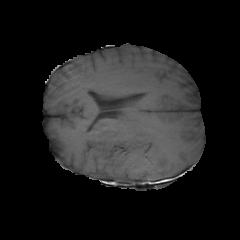glioma: (102, 128, 169, 173)
